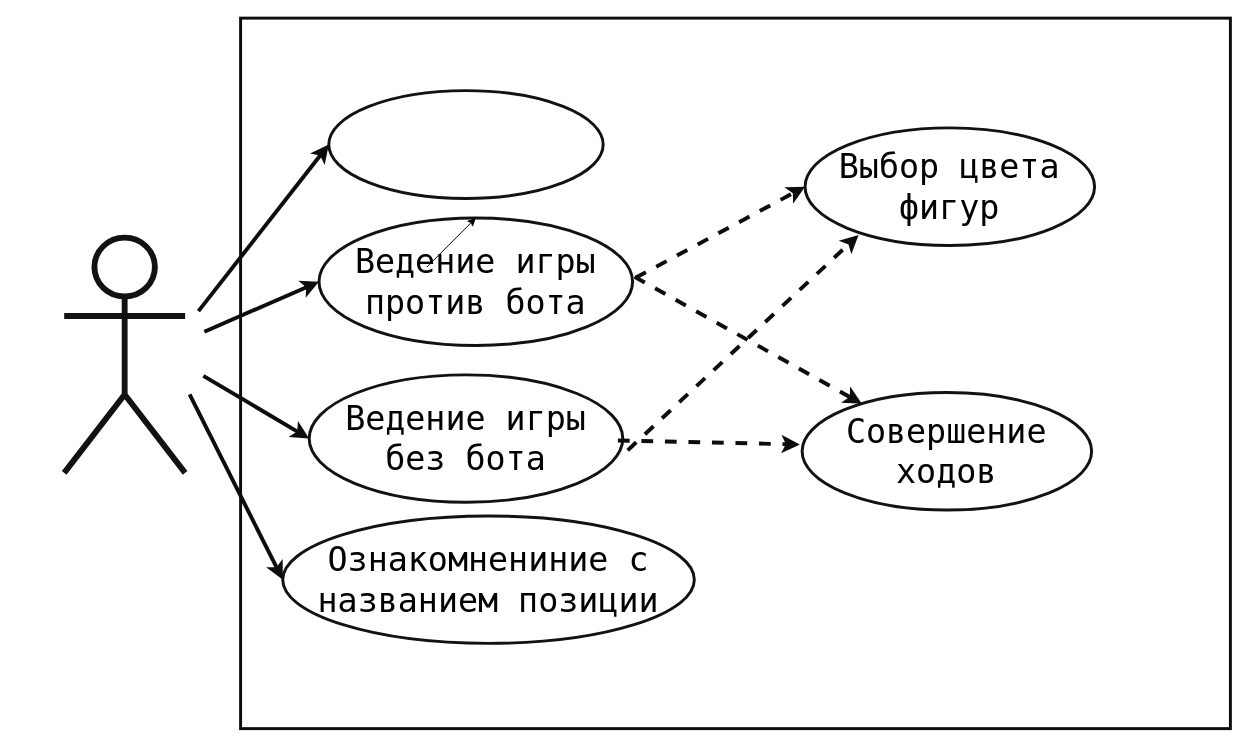
This 1250x747 diagram has some shape labels left out. The box of each missing label's shape, as (x1, y1, x2, y2) in pixels:
Настройка приложения: (327, 89, 604, 199)
Пользователь: (61, 234, 188, 475)
